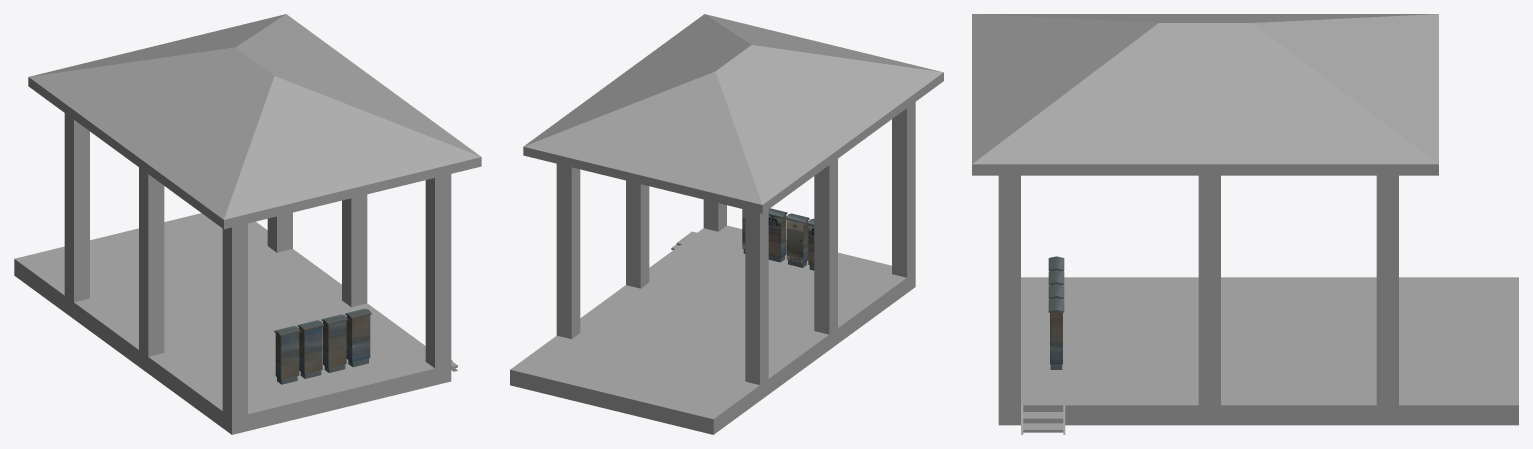
The model's file is ErCiTiShengBengFang.fbx.
3 renders of one model, left to right at view 1: azimuth 30°, elevation 25°; view 2: azimuth 150°, elevation 25°; view 3: azimuth 270°, elevation 25°, orthographic. The views are drawn at different scales.
Visible parts, largest first — view 1: ErCiTiShengBengFang; view 2: ErCiTiShengBengFang; view 3: ErCiTiShengBengFang.
Part boxes in pixels (x1,y1,x2,y2): ErCiTiShengBengFang: (14,14,481,434); ErCiTiShengBengFang: (510,14,943,434); ErCiTiShengBengFang: (972,14,1518,434).
Bounding box in the file's own units: 668 × 702 × 1027.
6 materials, 1 textured.
